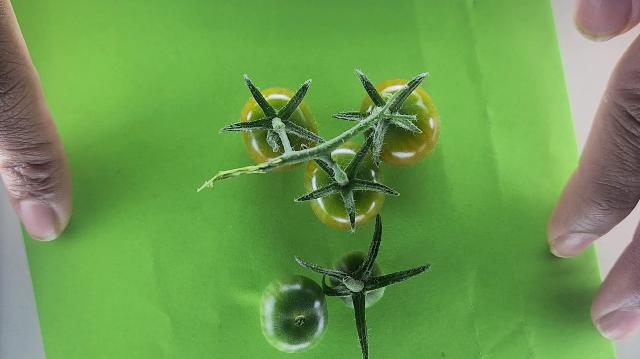Fruit Maturation: (258, 275, 329, 355), (326, 251, 385, 311)
Fully Grown: (357, 78, 441, 167), (305, 149, 387, 231), (239, 87, 318, 170)
